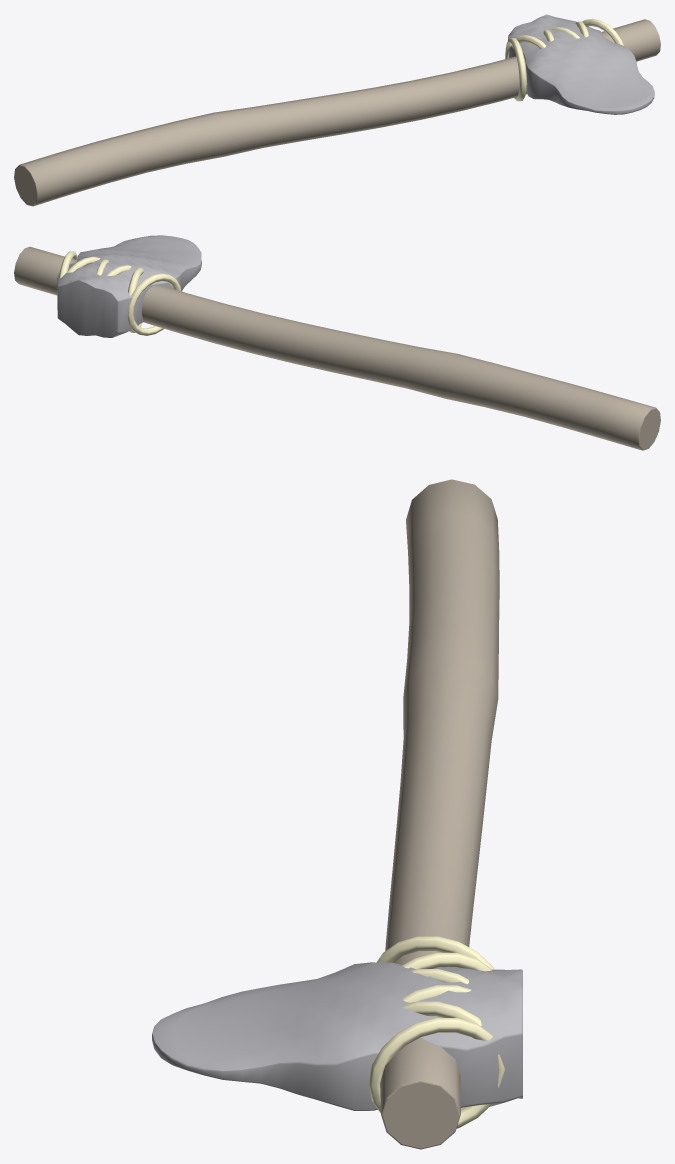
Rendered from stone_axe.glb.
3 views of the same model, one above another, from view 1: azimuth 30°, elevation 25°; view 2: azimuth 150°, elevation 25°; view 3: azimuth 270°, elevation 25° (orthographic). The views are drawn at different scales.
Visible parts, largest first — view 1: stone_axe; view 2: stone_axe; view 3: stone_axe.
Part boxes in pixels (x1,y1,x2,y2): stone_axe: (14,14,660,206); stone_axe: (14,235,660,450); stone_axe: (152,479,522,1149).
Bounding box in the file's own units: 0.5015 × 0.0438 × 0.13.
